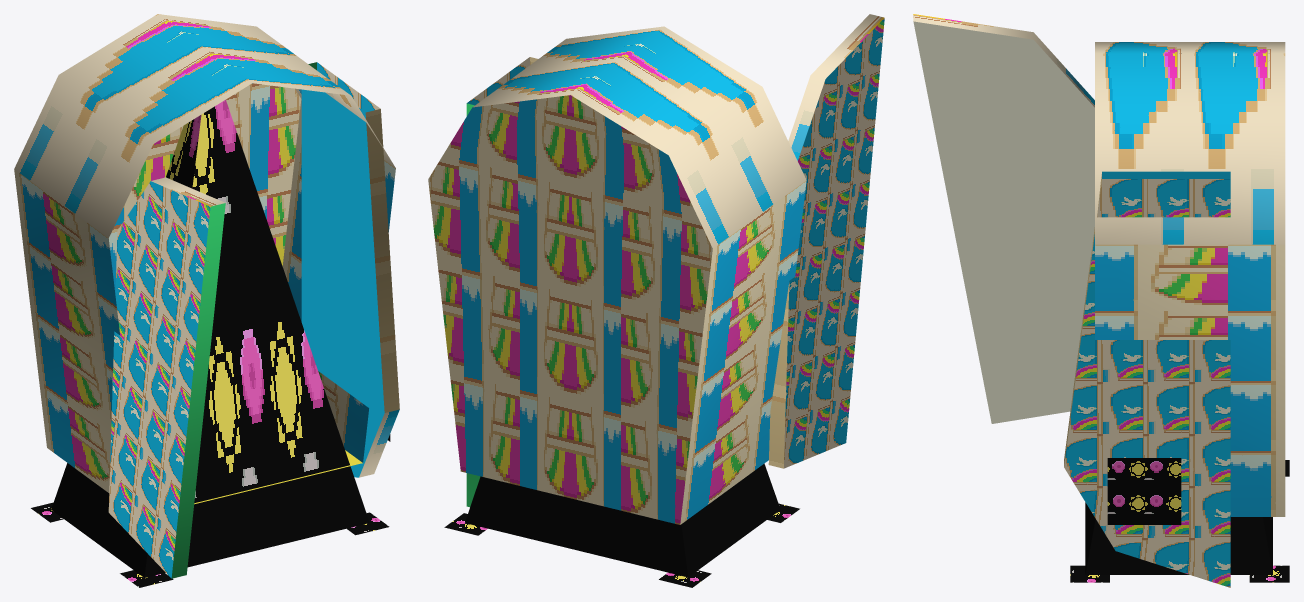
The picture shows the model from 3 angles, left to right: view 1: azimuth 30°, elevation 25°; view 2: azimuth 150°, elevation 25°; view 3: azimuth 270°, elevation 25°; orthographic projection.
Parts seen in each view (by area): view 1: 3718kg_sk_cl0; view 2: 3718kg_sk_cl0; view 3: 3718kg_sk_cl0.
Part boxes in pixels (left/top/right/bottom): 3718kg_sk_cl0: left=14, top=14, right=399, bottom=587; 3718kg_sk_cl0: left=428, top=14, right=884, bottom=587; 3718kg_sk_cl0: left=913, top=14, right=1289, bottom=587.
Bounding box in the file's own units: 1.29 × 2 × 1.45.
3 materials, 3 textured.
